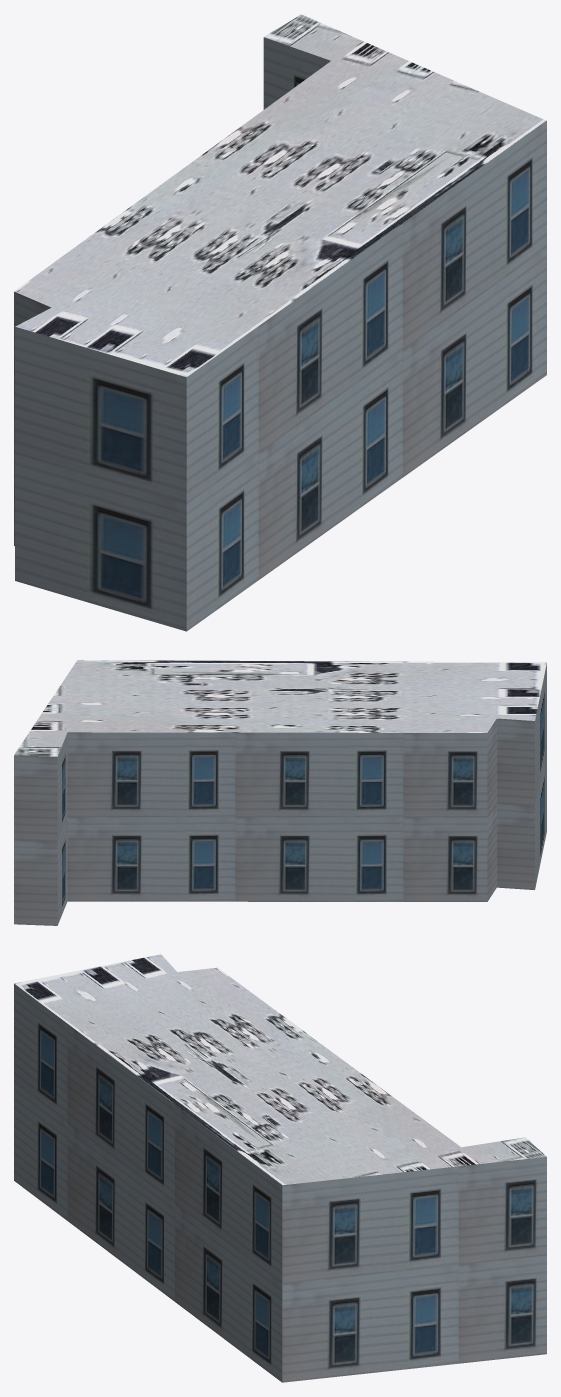
File: ResTex__253.fbx
3 renders of one model, top to bottom at view 1: azimuth 30°, elevation 25°; view 2: azimuth 150°, elevation 25°; view 3: azimuth 270°, elevation 25°, orthographic. The views are drawn at different scales.
Visible parts, largest first — view 1: CityEngineMaterial_18_m, CityEngineMaterial_8_m; view 2: CityEngineMaterial_18_m, CityEngineMaterial_8_m; view 3: CityEngineMaterial_18_m, CityEngineMaterial_8_m.
Part boxes in pixels (x1,y1,x2,y2): CityEngineMaterial_18_m: [14, 37, 546, 631]; CityEngineMaterial_8_m: [14, 14, 546, 377]; CityEngineMaterial_18_m: [14, 663, 546, 925]; CityEngineMaterial_8_m: [14, 660, 546, 756]; CityEngineMaterial_18_m: [14, 983, 546, 1382]; CityEngineMaterial_8_m: [14, 954, 546, 1185].
Bounding box in the file's own units: 15.06 × 6 × 14.68.
Materials: 2 (2 with a texture image).
